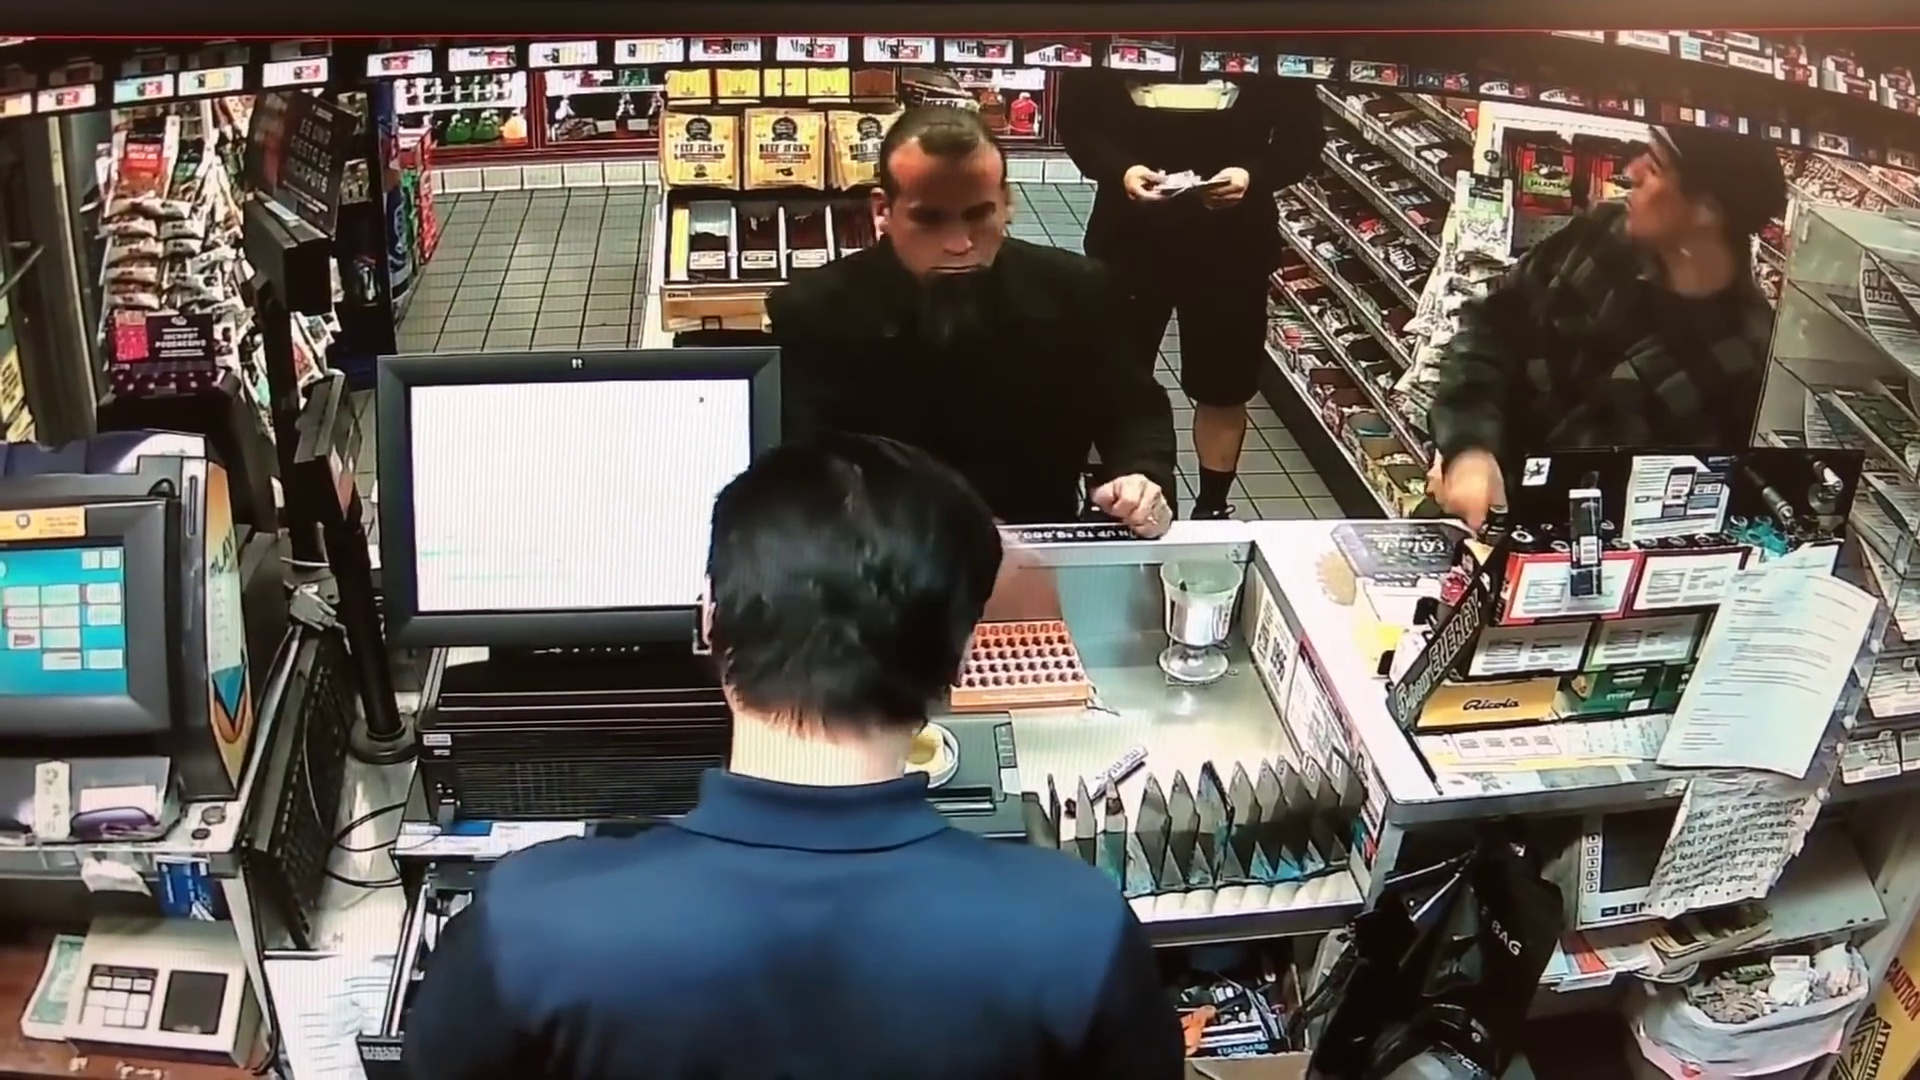face: (892, 157, 1002, 279), (1606, 144, 1716, 251)
